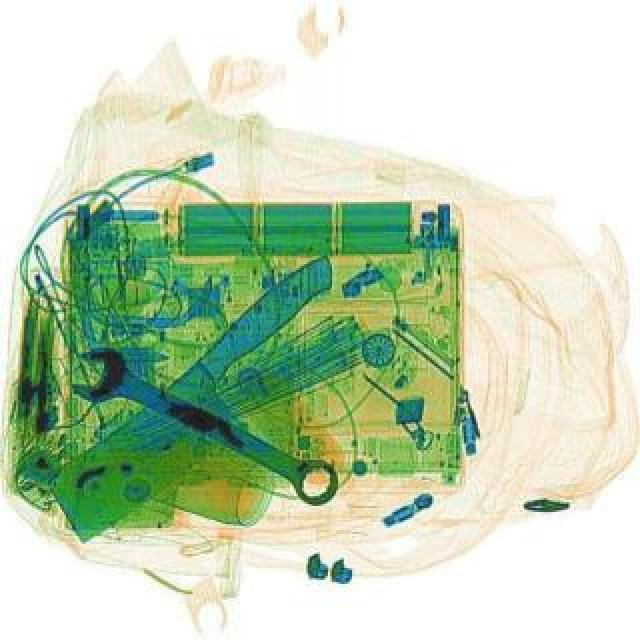knife: (20, 250, 388, 546)
scissors: (58, 336, 354, 508)
